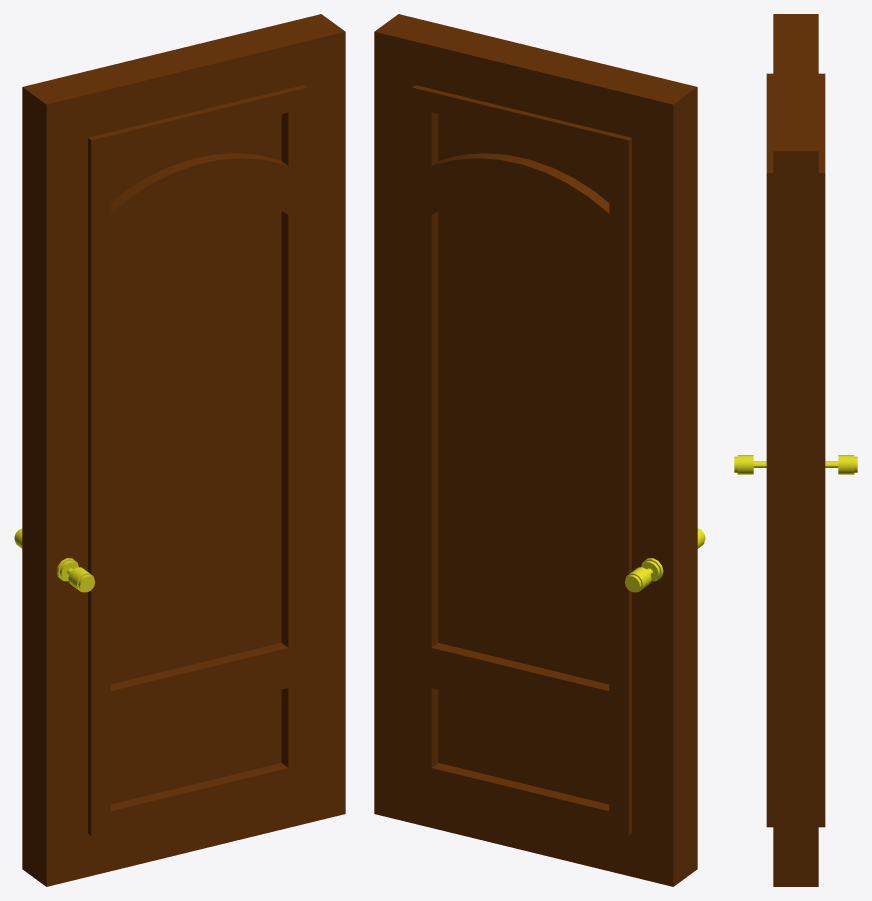
Rendered from Puerta1.fbx.
The picture shows the model from 3 angles, left to right: view 1: azimuth 30°, elevation 25°; view 2: azimuth 150°, elevation 25°; view 3: azimuth 270°, elevation 25°; orthographic projection. The views are drawn at different scales.
Visible parts, largest first — view 1: Puerta1, Puerta2; view 2: Puerta2, Puerta1; view 3: Puerta1, Puerta2.
Boxes of the visible parts, x1,y1,x2,y2 form: Puerta1: (34, 23, 345, 886); Puerta2: (14, 14, 332, 877); Puerta2: (374, 23, 685, 886); Puerta1: (387, 14, 705, 877); Puerta1: (734, 14, 795, 886); Puerta2: (796, 14, 857, 886).
Bounding box in the file's own units: 1 × 2.5 × 0.38.
